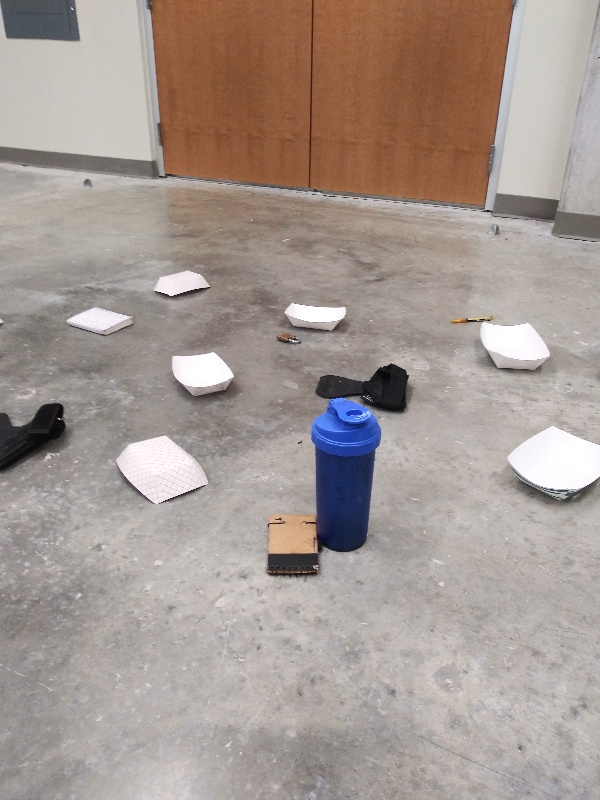plate: (109, 430, 214, 512), (503, 422, 600, 509), (476, 315, 553, 378), (163, 349, 240, 401), (281, 297, 352, 338), (148, 268, 212, 298)
